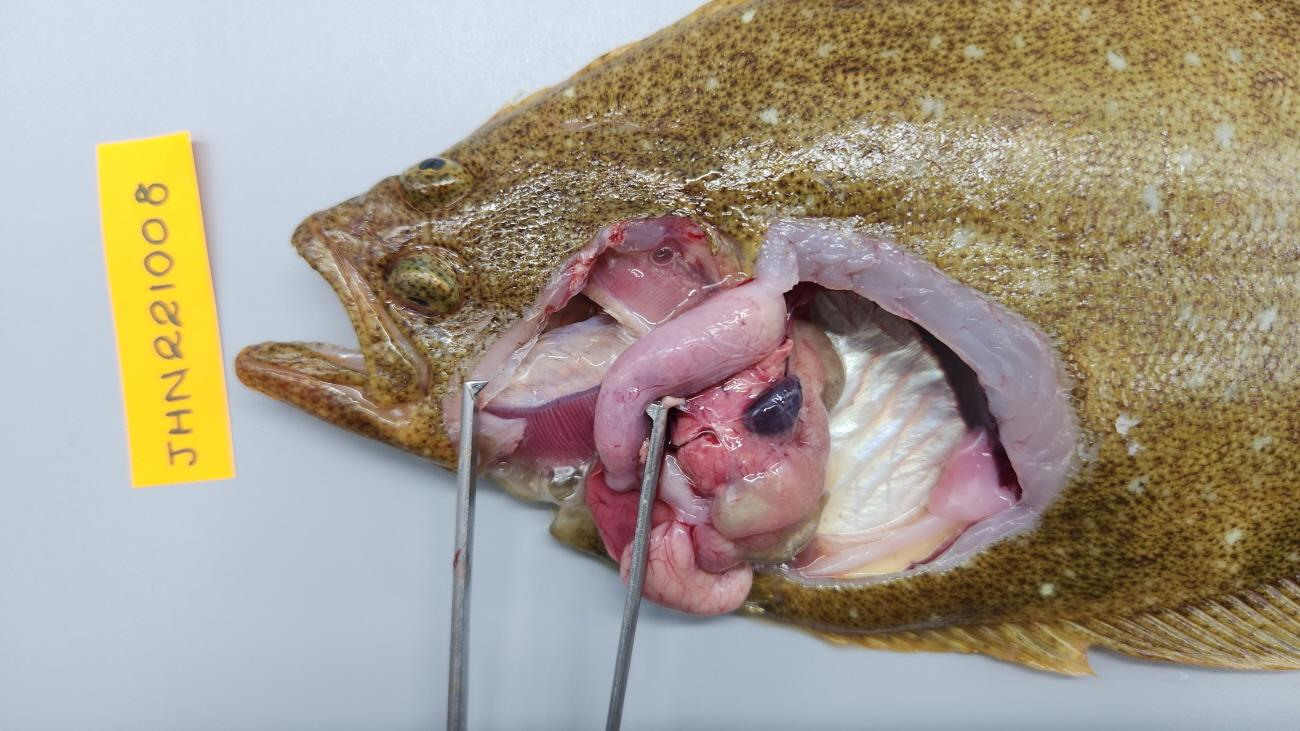POINN: (670, 336, 831, 540)
POSPN: (744, 373, 803, 435)
